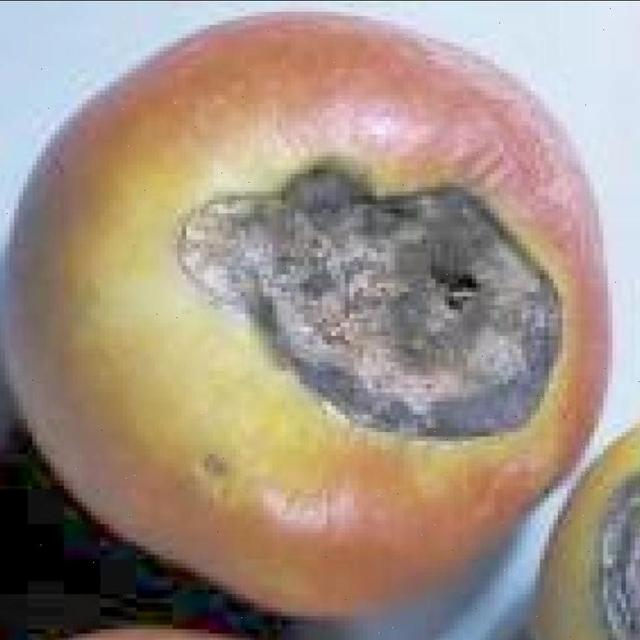Blossom End Rot Fruit: (33, 120, 410, 367)
